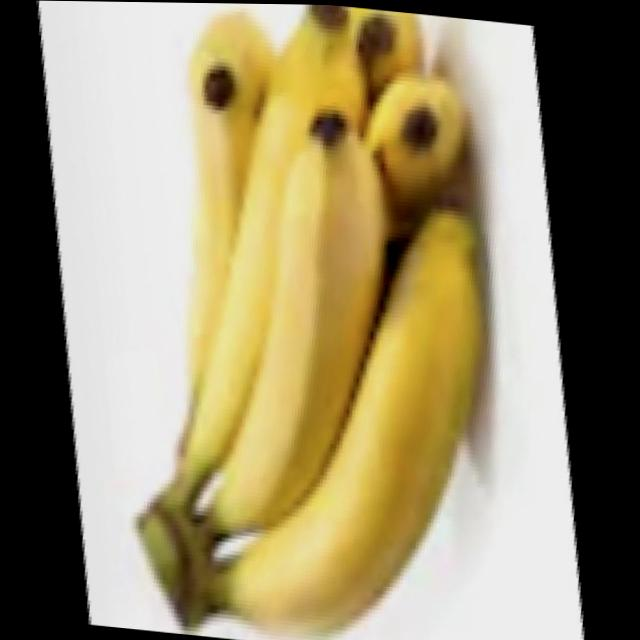Banana: (124, 2, 522, 640)
